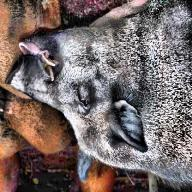boar: (12, 0, 192, 186)
